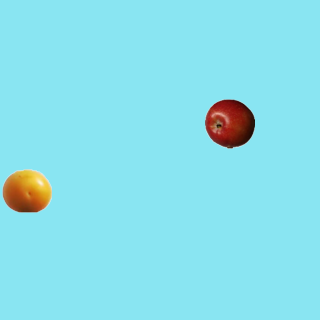Apple Braeburn: (204, 98, 254, 148)
Cherry Wax Yellow: (1, 165, 51, 215)
